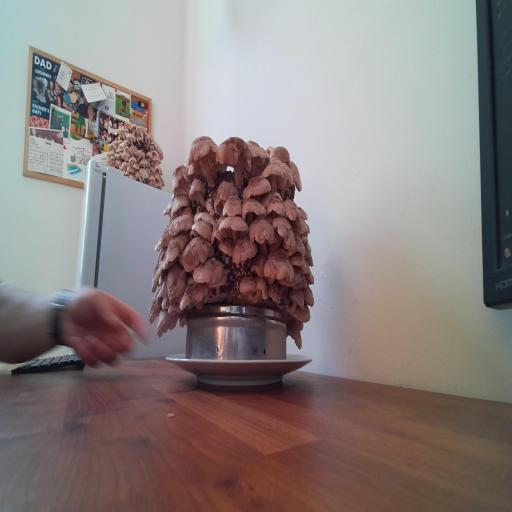Shiitake Mushroom: (201, 120, 269, 194), (168, 227, 224, 278), (239, 206, 286, 263), (184, 128, 223, 188), (151, 225, 198, 271), (253, 152, 296, 201), (203, 171, 244, 218), (211, 208, 256, 247), (266, 149, 298, 201), (223, 231, 266, 269), (263, 247, 295, 284), (275, 195, 310, 228), (176, 279, 212, 310), (280, 317, 311, 352), (150, 221, 177, 260), (239, 191, 268, 227), (163, 210, 198, 238), (144, 286, 167, 328), (284, 247, 316, 277), (149, 276, 177, 309), (271, 215, 296, 251), (154, 307, 178, 344), (192, 256, 224, 283), (167, 262, 187, 305), (250, 147, 273, 184), (186, 216, 217, 242), (261, 194, 291, 220), (212, 232, 241, 258), (165, 191, 195, 216), (286, 157, 305, 196), (246, 140, 264, 181), (204, 225, 230, 253), (243, 175, 271, 200), (205, 275, 233, 299), (276, 270, 305, 292), (249, 274, 269, 305), (290, 216, 311, 245), (172, 164, 191, 196), (284, 286, 305, 314), (249, 249, 268, 278), (289, 303, 314, 325), (268, 144, 292, 164), (189, 178, 205, 207), (284, 313, 307, 332), (239, 274, 257, 298), (301, 283, 317, 310), (288, 232, 306, 256), (155, 263, 173, 287), (223, 194, 242, 216), (256, 190, 277, 209), (185, 165, 207, 183), (156, 245, 168, 278), (151, 255, 161, 293), (193, 210, 217, 225), (267, 281, 282, 304), (303, 268, 318, 289), (303, 240, 314, 268), (295, 205, 312, 222), (162, 194, 174, 218), (167, 303, 181, 317), (161, 296, 170, 311), (300, 274, 307, 290)
